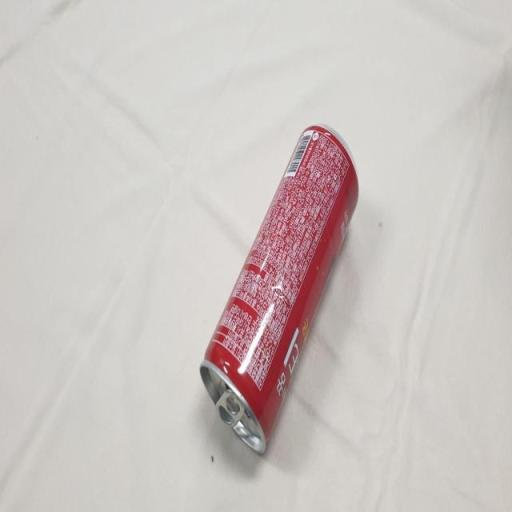metal: (170, 110, 366, 496)
